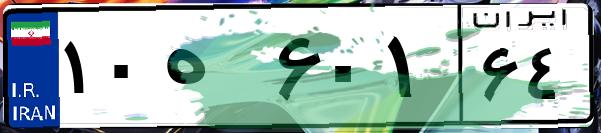0: (330, 28, 385, 110), (110, 28, 158, 98)
1: (385, 28, 445, 110), (57, 26, 110, 100)
4: (525, 38, 570, 115)
6: (270, 28, 330, 110), (475, 38, 525, 113)
ه: (158, 20, 270, 120)
